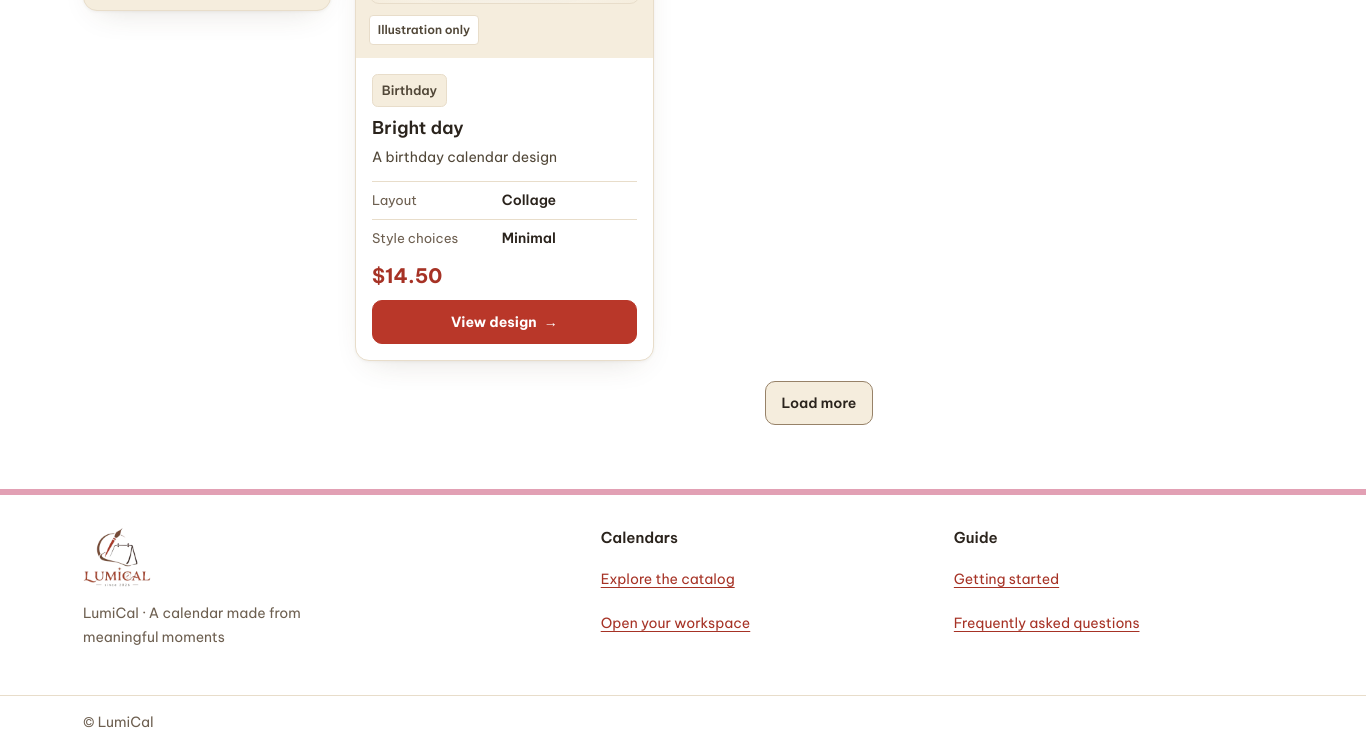
Test: public Template catalog and detail screens › keeps loaded results visible when loading another cursor fails and retries that cursor
The image size is (1366, 748).
(page scrolled)
Expected: the heading "Bright day" is shown, [372, 116, 464, 140]
Click the button "Load more": (819, 402) [765, 380, 873, 424]
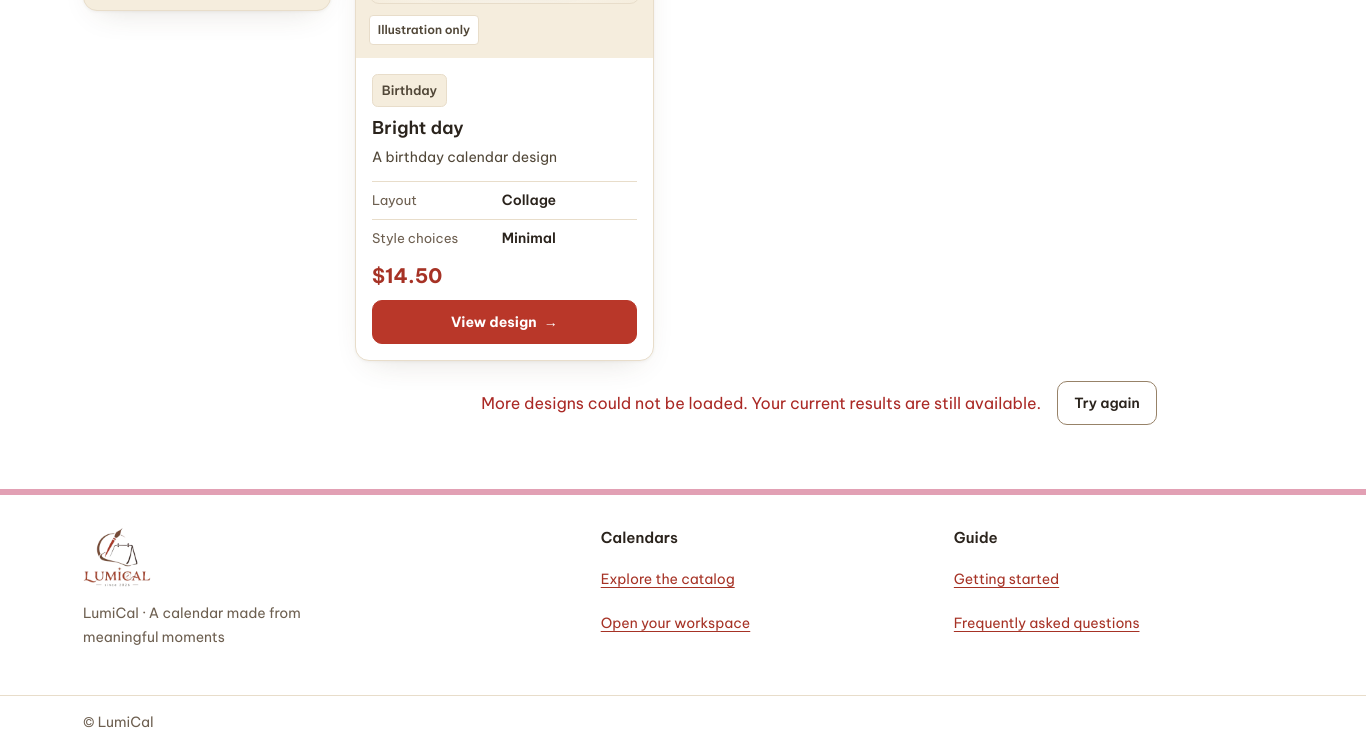
Expected: the heading "Bright day" is shown, [372, 116, 464, 140]
Result: the text "More designs could not be loaded" is shown at [481, 392, 1041, 412]
Click the button "Try again": (1107, 402) [1057, 380, 1157, 424]
(page scrolled)
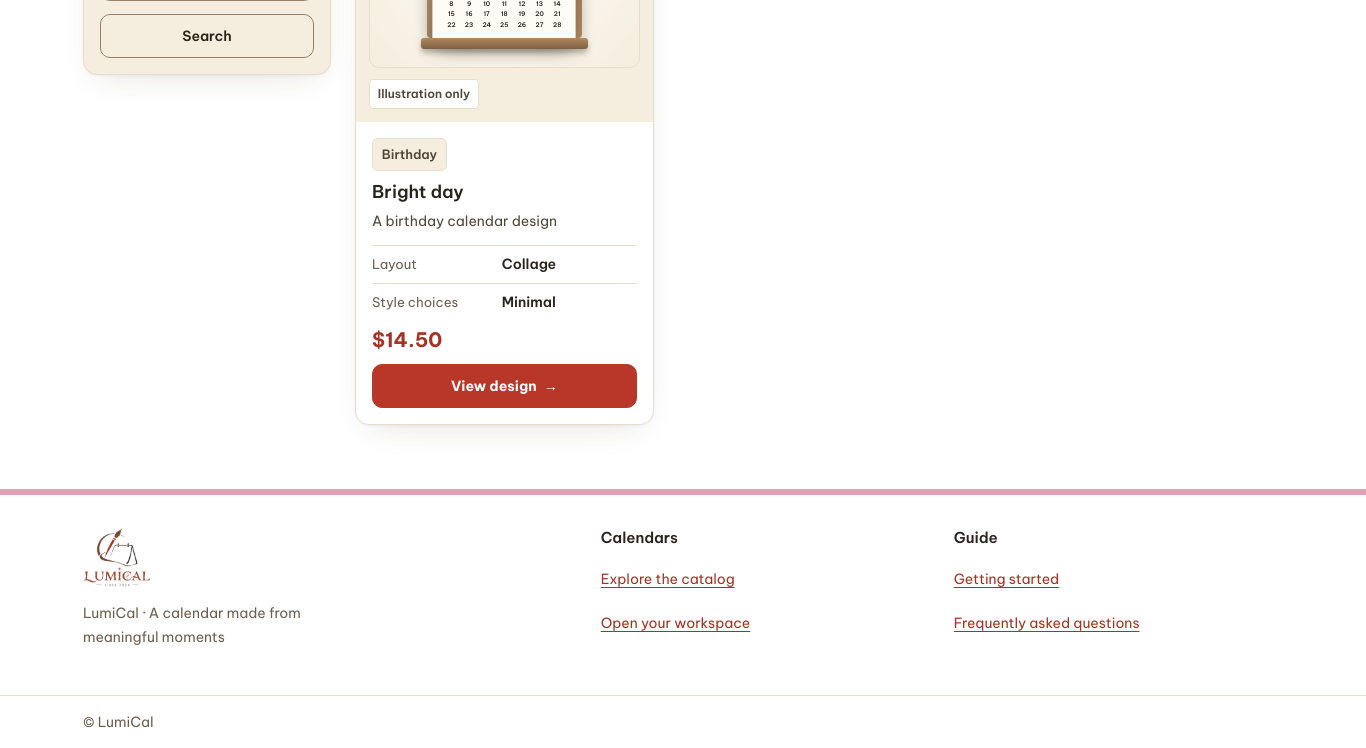
Result: the text "More designs could not be loaded" is gone
